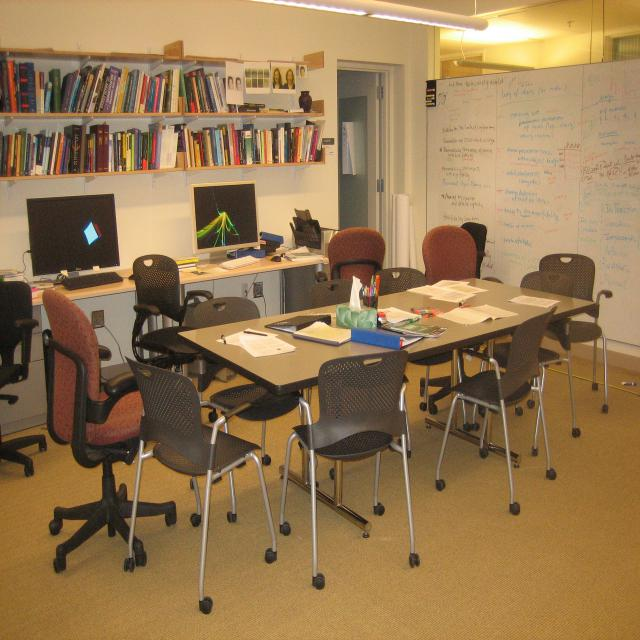keyboard crop: (61, 271, 124, 290), (220, 255, 260, 271)
screen occluded: (27, 195, 122, 280), (190, 180, 261, 257)
whiteboard: (426, 59, 640, 346)
